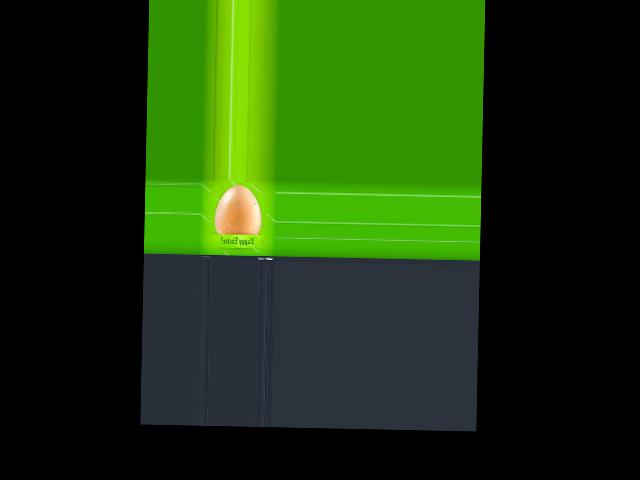egg: (214, 184, 261, 234)
